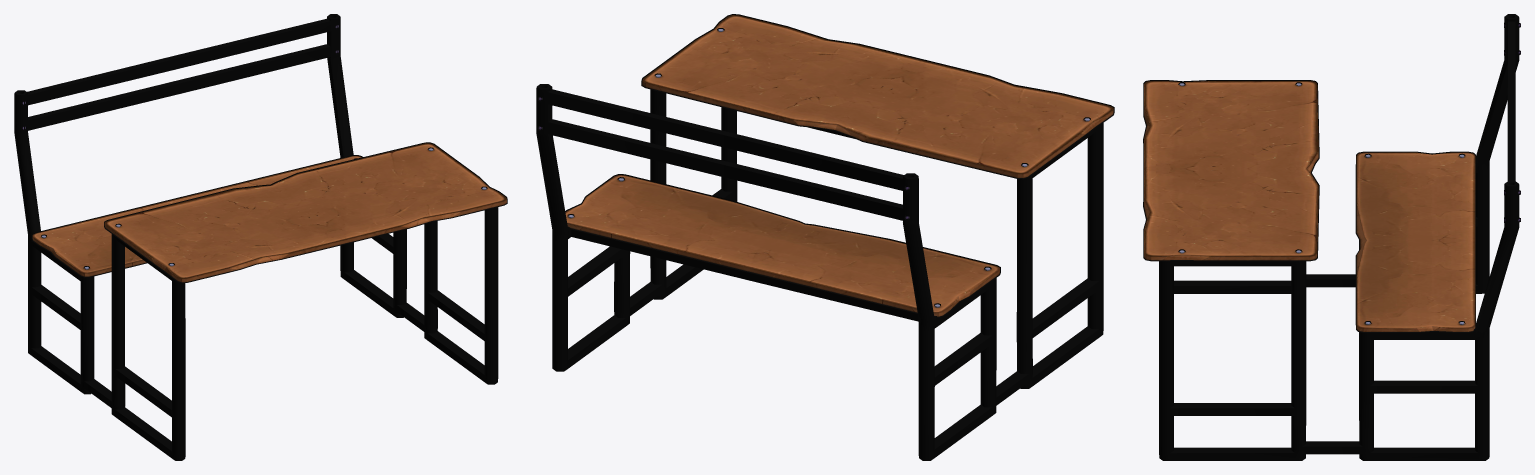
The model's file is Desk 3.fbx.
The picture shows the model from 3 angles, left to right: view 1: azimuth 30°, elevation 25°; view 2: azimuth 150°, elevation 25°; view 3: azimuth 270°, elevation 25°; orthographic projection. The views are drawn at different scales.
Parts seen in each view (by area): view 1: Desk 3; view 2: Desk 3; view 3: Desk 3.
Part boxes in pixels (left/top/right/bottom): Desk 3: left=14, top=14, right=507, bottom=460; Desk 3: left=536, top=14, right=1114, bottom=460; Desk 3: left=1143, top=14, right=1520, bottom=460.
Size of the model in its own units: 184 by 133 by 166.
